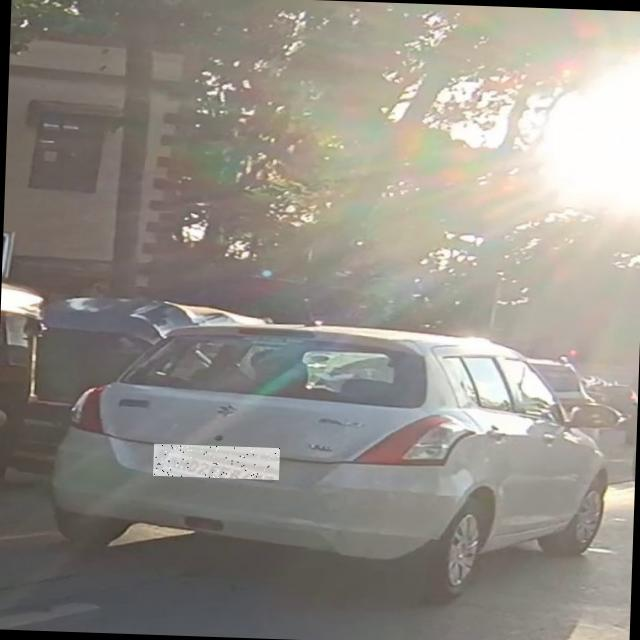Plate: (154, 445, 281, 481)
